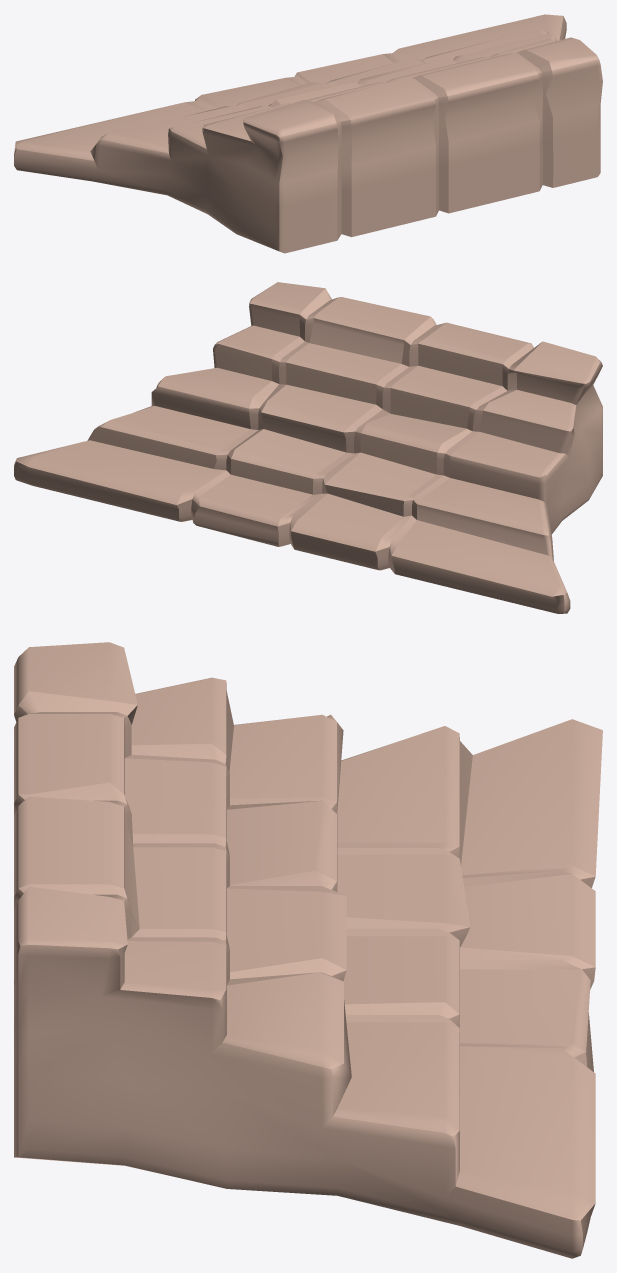
The model's file is escalierCourveVolcan.fbx.
3 views of the same model, one above another, from view 1: azimuth 30°, elevation 25°; view 2: azimuth 150°, elevation 25°; view 3: azimuth 270°, elevation 25° (orthographic). The views are drawn at different scales.
Visible parts, largest first — view 1: escalierCourveVolcan; view 2: escalierCourveVolcan; view 3: escalierCourveVolcan.
Part boxes in pixels (<box>): escalierCourveVolcan: <box>14,14,602,253</box>; escalierCourveVolcan: <box>14,282,602,613</box>; escalierCourveVolcan: <box>14,642,602,1258</box>.
Bounding box in the file's own units: 151 × 32.43 × 75.1.
